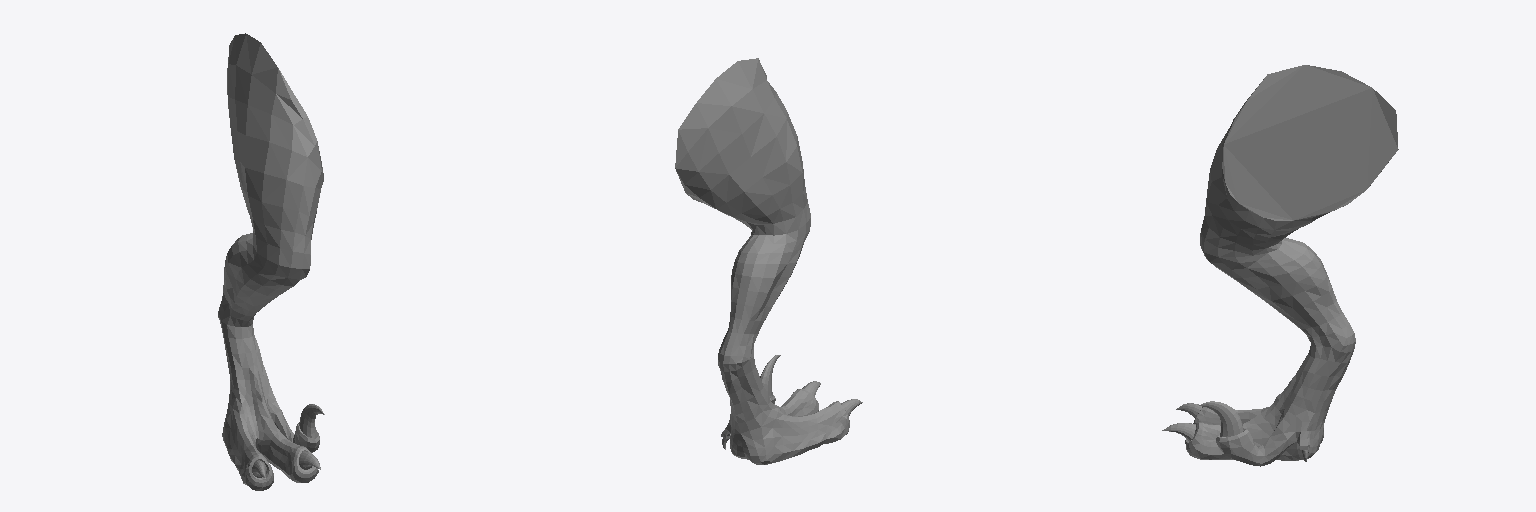
File: PataDerDino1.obj
3 renders of one model, left to right at view 1: azimuth 30°, elevation 25°; view 2: azimuth 150°, elevation 25°; view 3: azimuth 270°, elevation 25°, orthographic.
Parts seen in each view (by area): view 1: Raptor0; view 2: Raptor0; view 3: Raptor0.
Part boxes in pixels (x1,y1,x2,y2): Raptor0: (218,33,324,490); Raptor0: (675,58,862,464); Raptor0: (1162,65,1398,466).
Size of the model in its own units: 3.27 by 13.86 by 7.44.